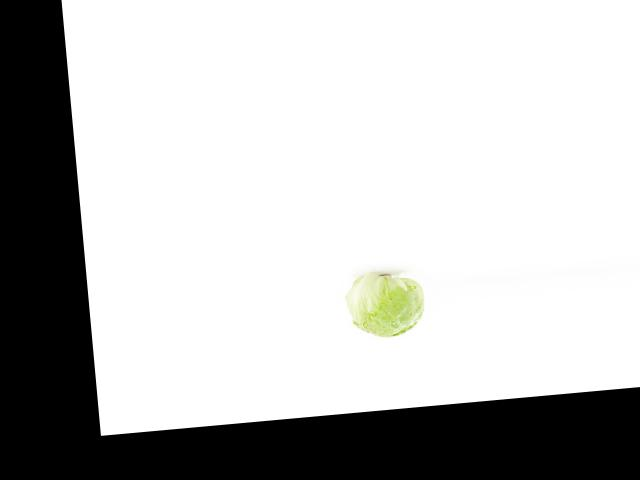lettuce: (343, 272, 437, 342)
